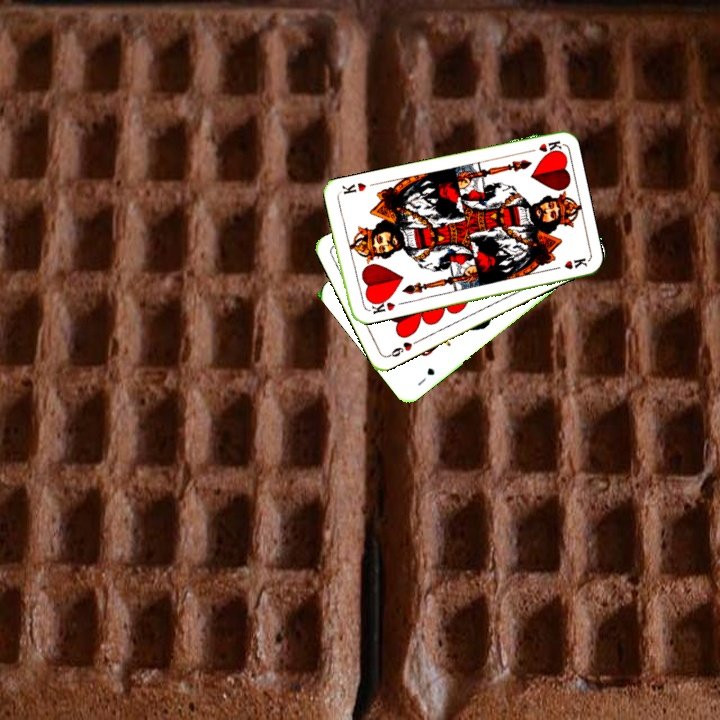GU: (413, 363, 437, 388)
H9: (384, 336, 422, 360)
HK: (522, 136, 564, 157), (366, 294, 397, 316)
